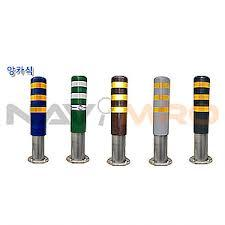Animal: (23, 80, 49, 162), (67, 73, 86, 156), (149, 77, 169, 149), (106, 77, 124, 151), (192, 77, 208, 149)
